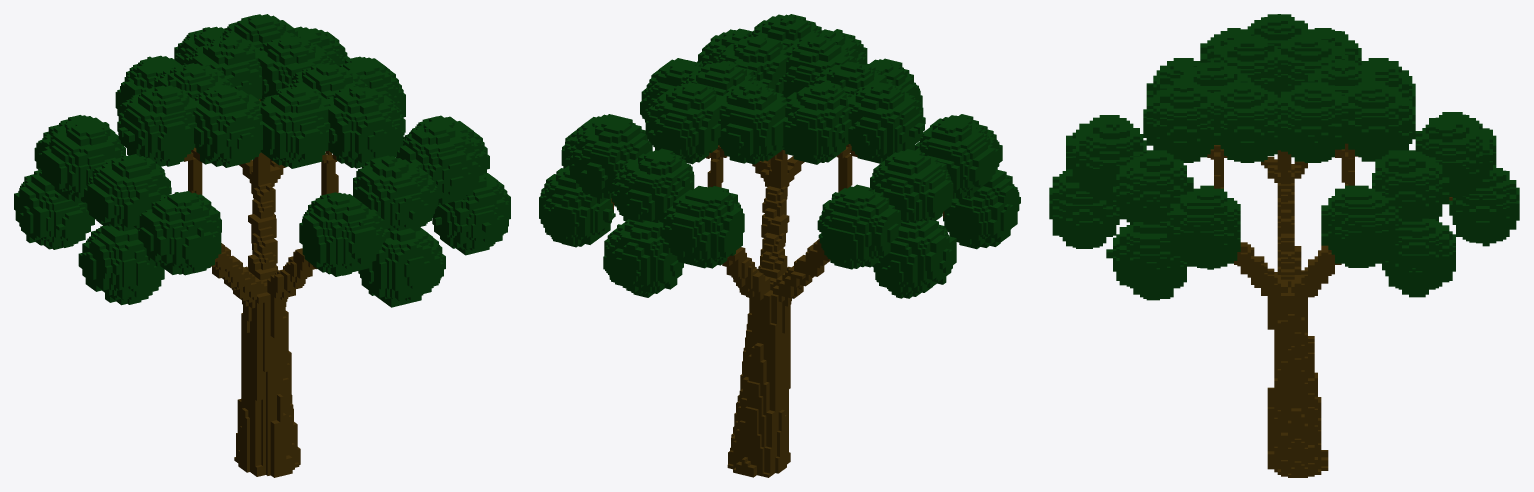
The model's file is Tree4-1-1.obj.
3 views of the same model, side by side, from view 1: azimuth 30°, elevation 25°; view 2: azimuth 150°, elevation 25°; view 3: azimuth 270°, elevation 25° (orthographic). The views are drawn at different scales.
Visible parts, largest first — view 1: 1; view 2: 1; view 3: 1.
Boxes of the visible parts, x1,y1,x2,y2 form: 1: (14,14,510,477); 1: (539,14,1020,477); 1: (1049,14,1519,477).
Bounding box in the file's own units: 12.5 × 12.9 × 14.
1 material, 1 textured.
